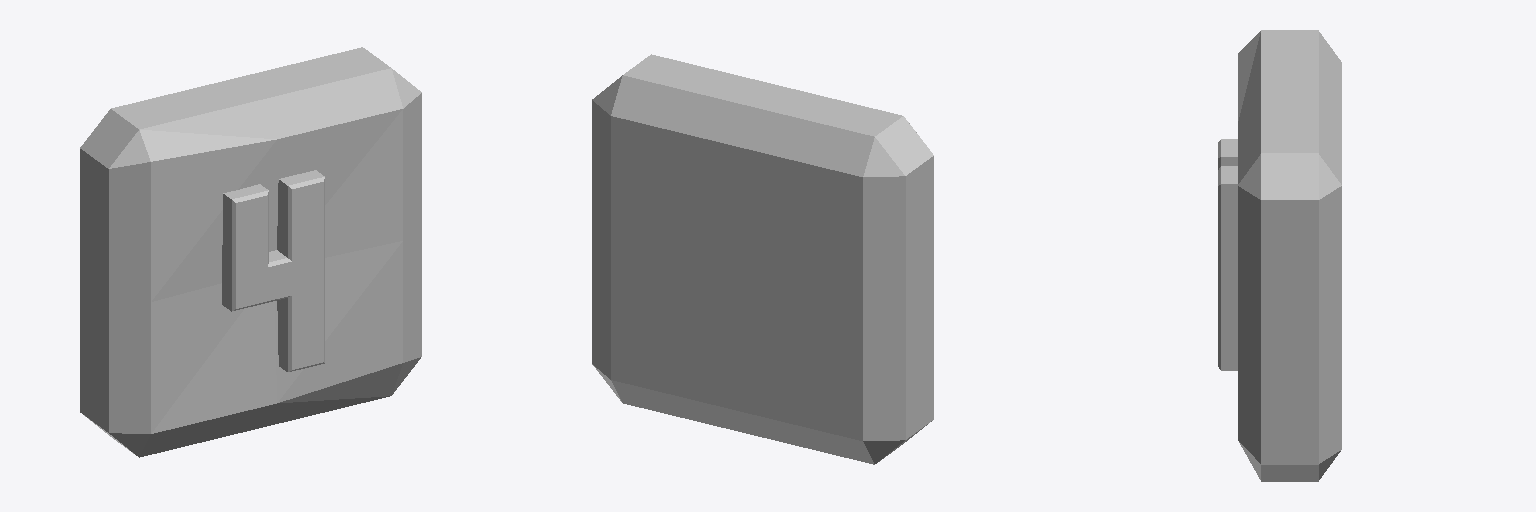
The model's file is Lvl-4.obj.
The picture shows the model from 3 angles: view 1: azimuth 30°, elevation 25°; view 2: azimuth 150°, elevation 25°; view 3: azimuth 270°, elevation 25°; orthographic projection.
Parts seen in each view (by area): view 1: lvl-4_Cube.013; view 2: lvl-4_Cube.013; view 3: lvl-4_Cube.013.
Part boxes in pixels (x1,y1,x2,y2): lvl-4_Cube.013: (80,47,421,457); lvl-4_Cube.013: (592,54,933,464); lvl-4_Cube.013: (1218,30,1341,481).
Size of the model in its own units: 1.28 by 1.28 by 0.4393.